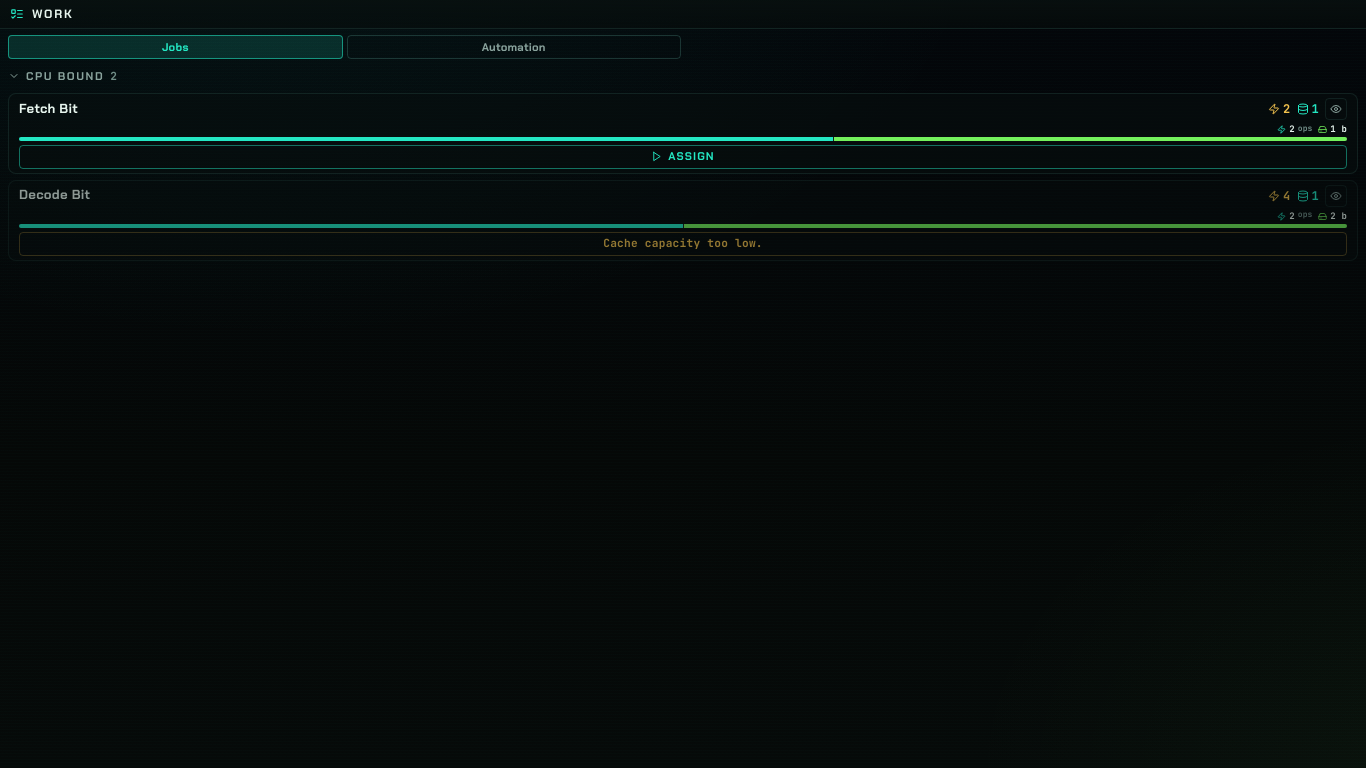
Test case: WorkPanel › labels Live Ops status, projection, progress, and blockers
The width and height of the screenshot is (1366, 768).
Click the tab with aria-label "Automation".
click(514, 47)  # box x1=346 y1=35 x2=681 y2=59
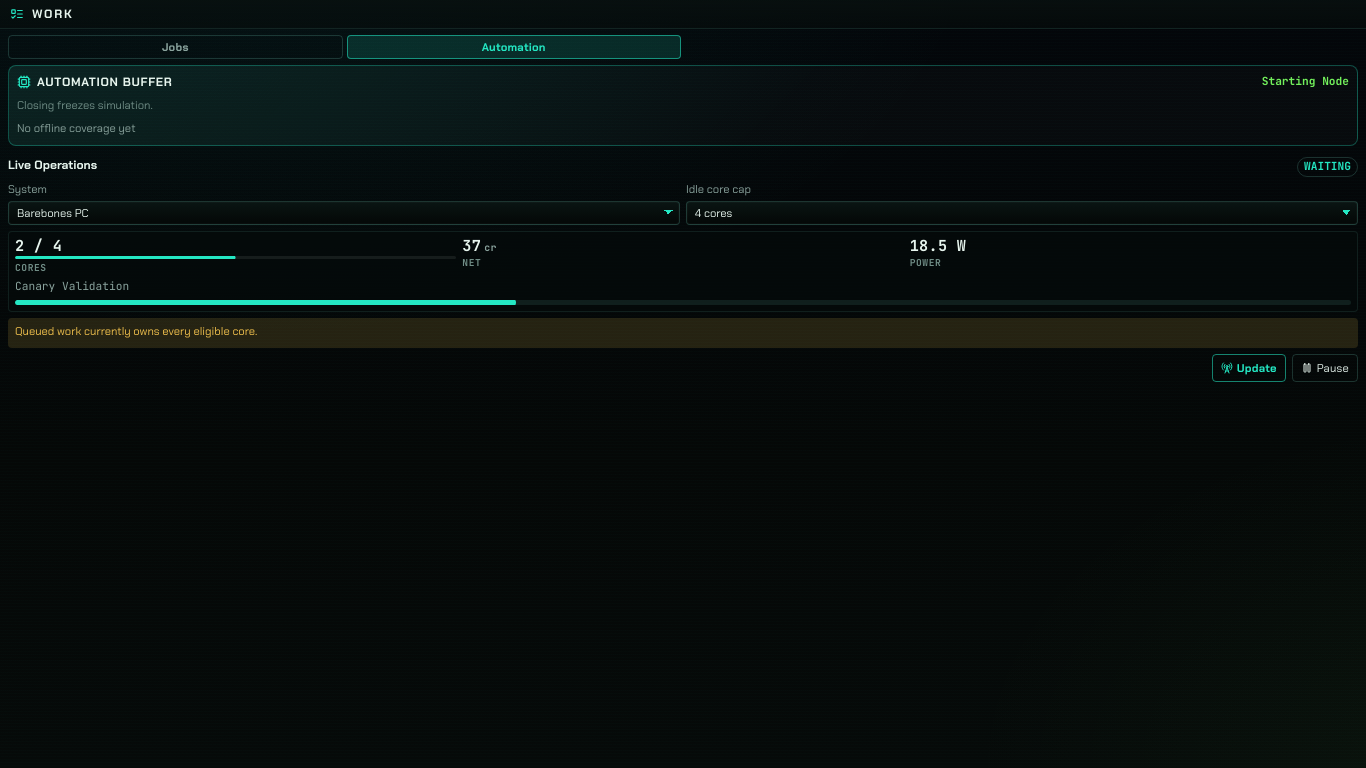
Result: the element named "Live Ops status" shows "Canary Validation" at x1=15 y1=280 x2=129 y2=294
Result: the element named "Live Ops status" shows "2 / 4" at x1=15 y1=235 x2=62 y2=256
Result: the element named "Power 18.5 W" is shown at x1=910 y1=235 x2=966 y2=269
